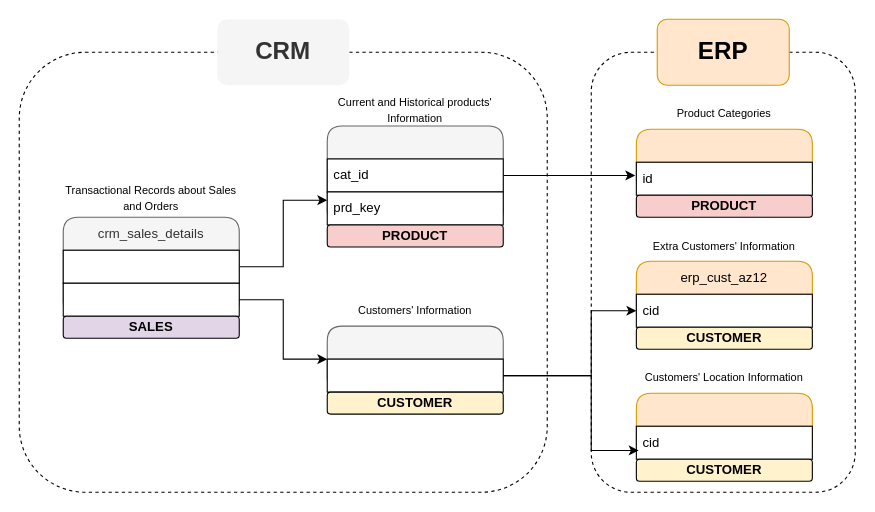
This 875x512 diagram has some shape labels left out. The box of each missing label's shape, as (x1, y1, x2, y2) in pixels:
crm_cust_info: (326, 325, 503, 392)
crm_prd_info: (326, 125, 503, 225)
cst_id: (326, 358, 503, 392)
erp_loc_a101: (635, 392, 812, 459)
erp_px_cat_g1v2: (635, 128, 812, 195)
sls_cust_id: (62, 282, 239, 316)
sls_prd_key: (62, 249, 239, 283)
